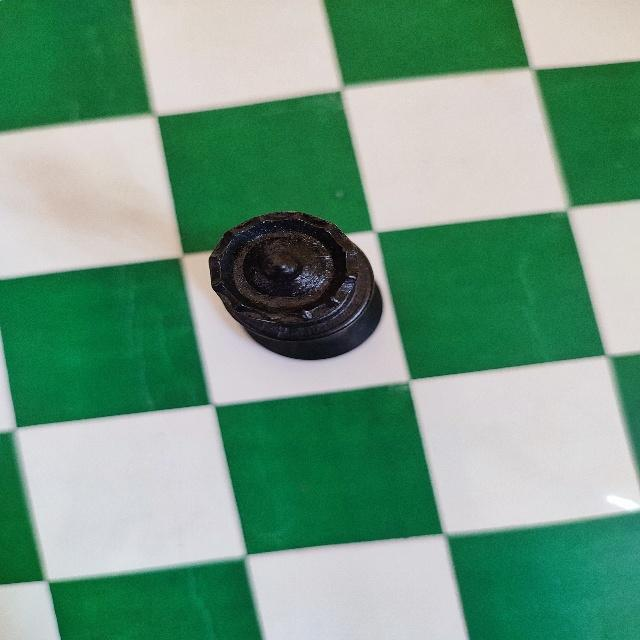Queen: (205, 207, 386, 362)
